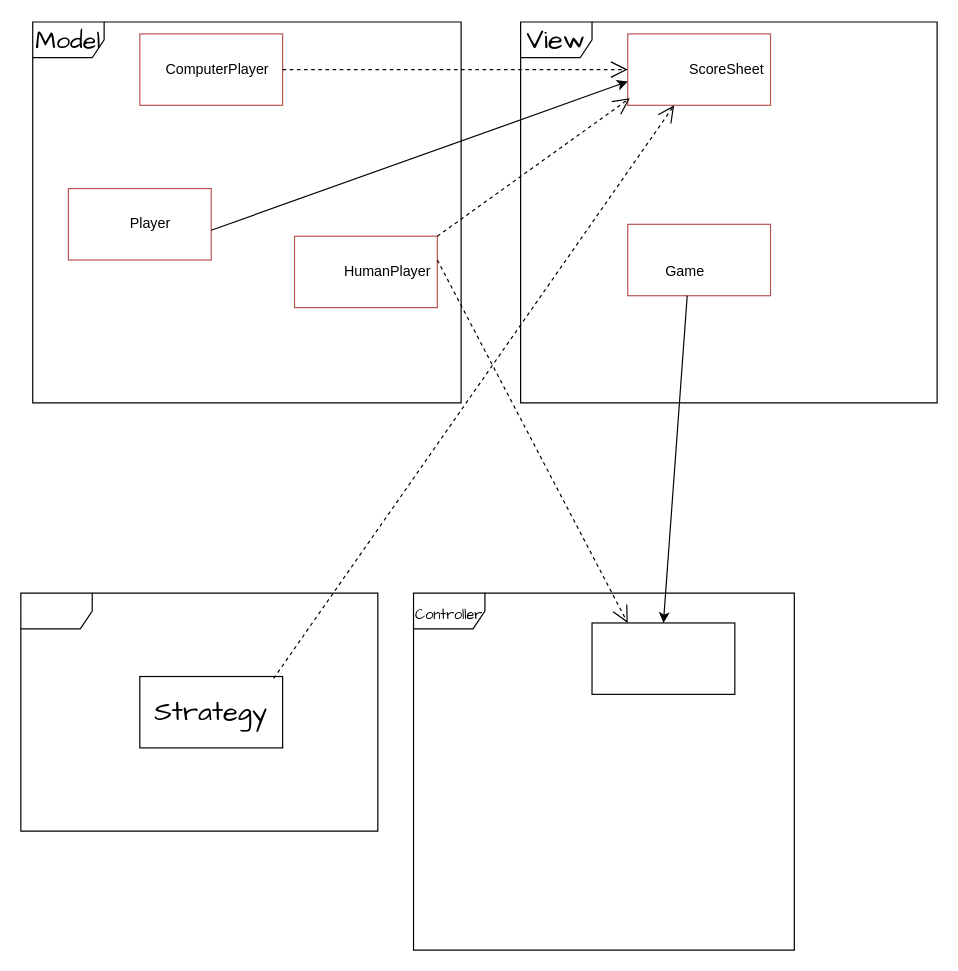
Image size: 958x971. Some labels were removed from this diagram. Here are the shapes that lost their labels. From the top down, the box of each, then its label:
(591, 622, 735, 694): Yatzhee
(20, 592, 378, 831): Rules
